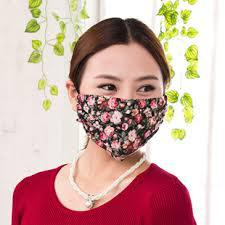OK: (80, 70, 163, 153)
